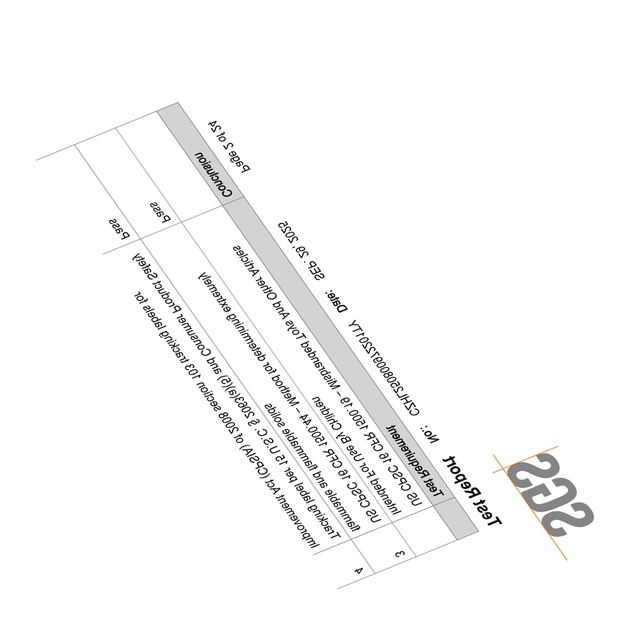sgs: (507, 452, 594, 538)
